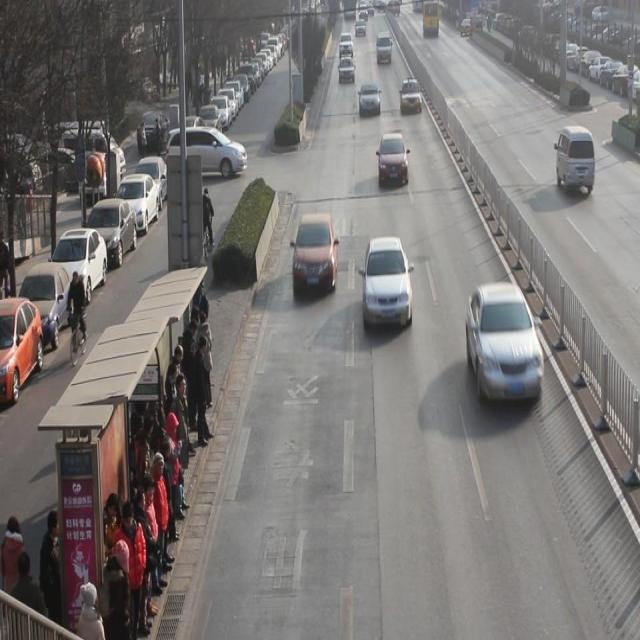car: (468, 284, 545, 406), (363, 236, 413, 329), (293, 214, 338, 293), (378, 133, 409, 187), (359, 82, 381, 118), (400, 80, 422, 116), (338, 56, 356, 85)
truck: (557, 124, 595, 197)
